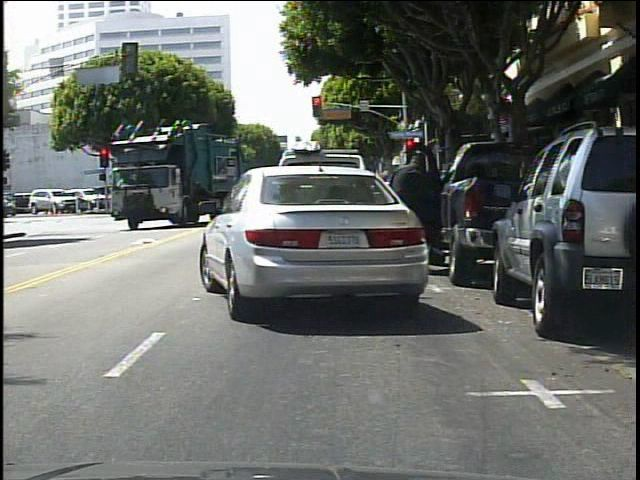person: (388, 146, 449, 285)
